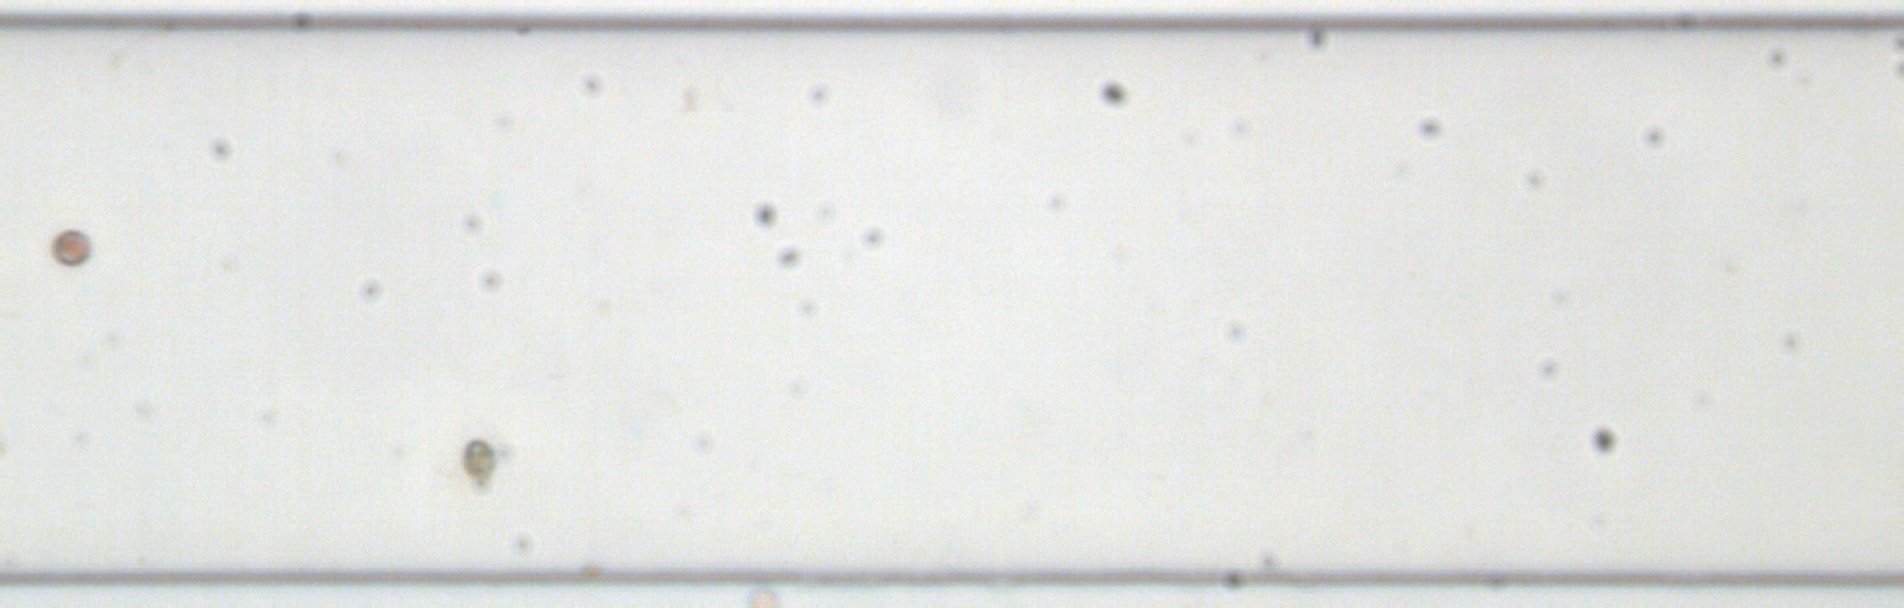Dunaliella salina: (461, 436, 494, 487)
Porphyridium: (49, 226, 93, 268)
